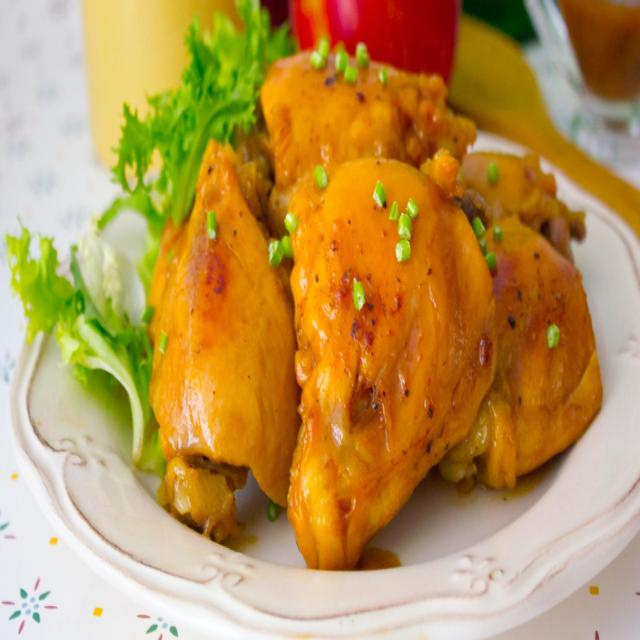pollo: (276, 150, 508, 586)
